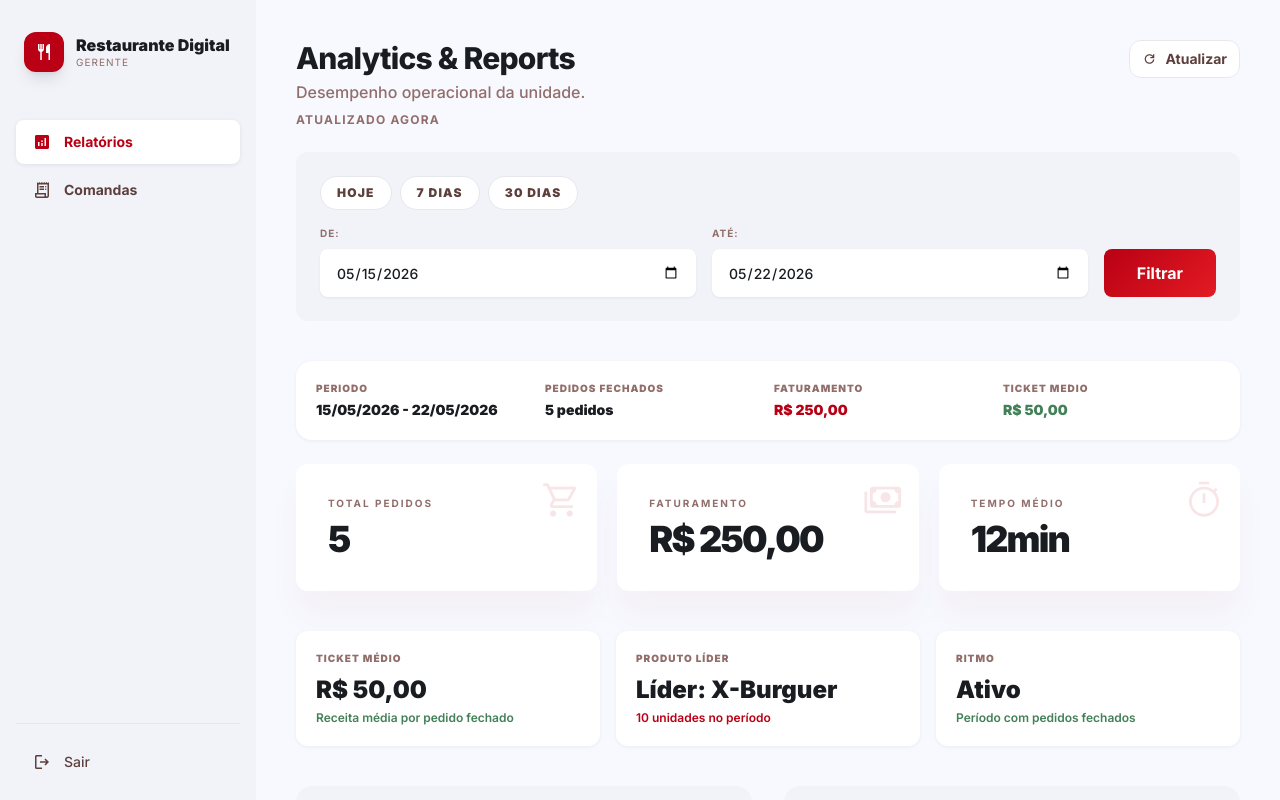
Test: GerentePage › volta para aba Relatórios ao clicar no nav item
Expected: the text "5" is shown, top-left (328, 519), bottom-right (350, 559)
Click the button "Comandas".
click(128, 190)  # box top-left (16, 168), bottom-right (240, 212)
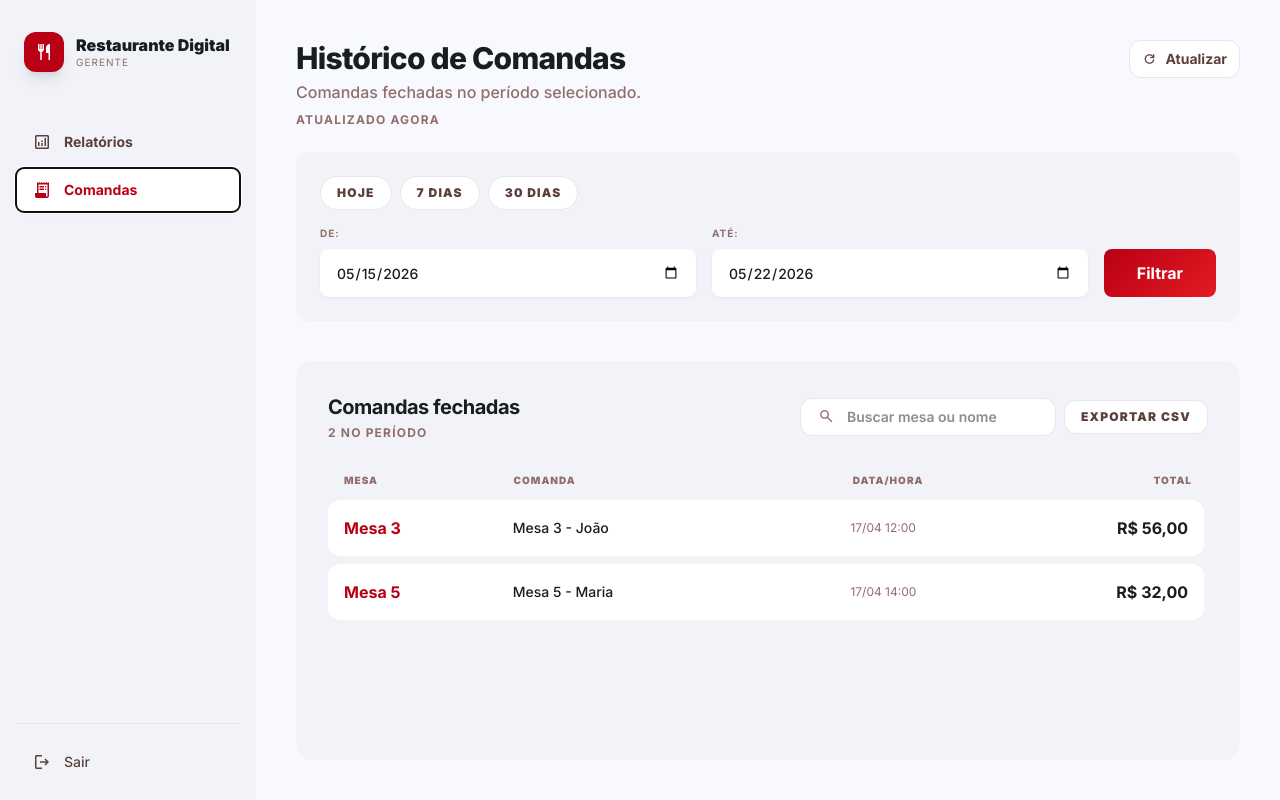
Click the button "Relatórios".
click(128, 142)  # box top-left (16, 120), bottom-right (240, 164)
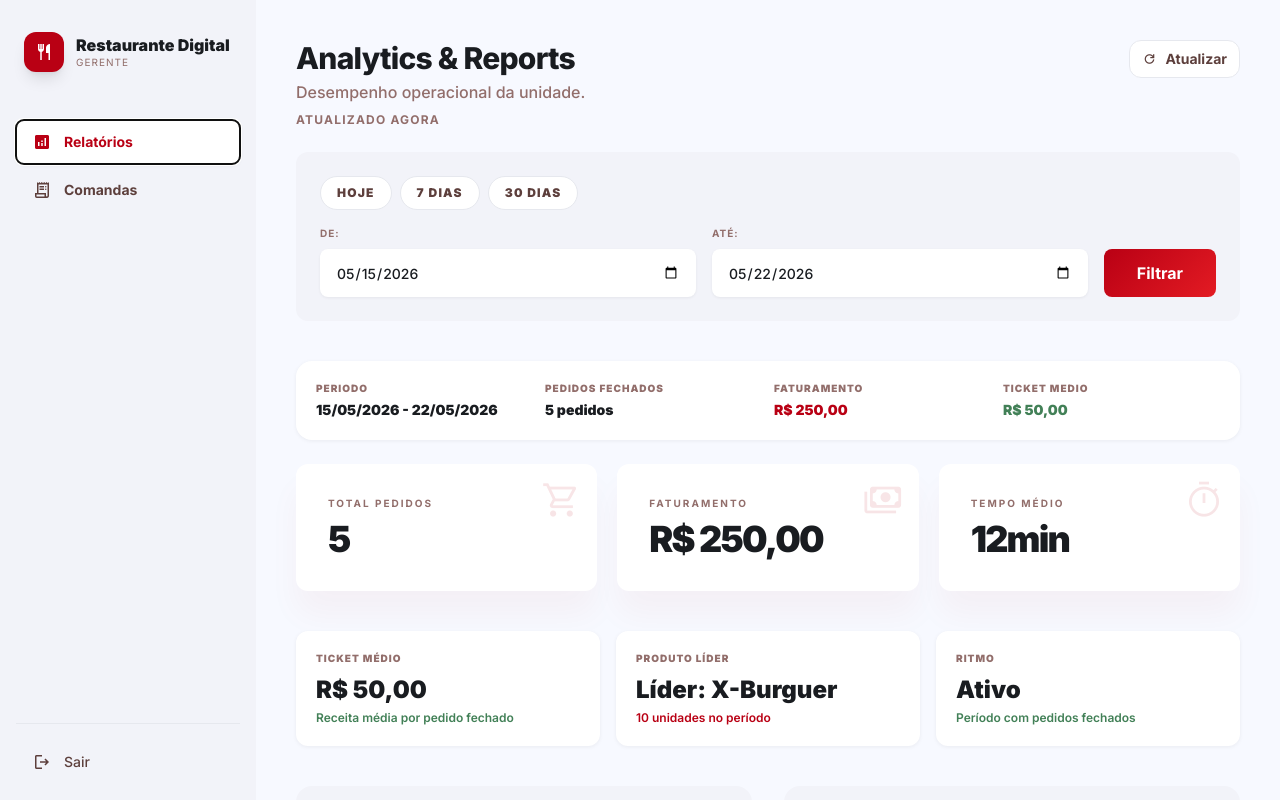
Expected: the heading "Analytics & Reports" is shown, top-left (296, 40), bottom-right (585, 76)
Expected: the heading "Histórico de Comandas" is gone
